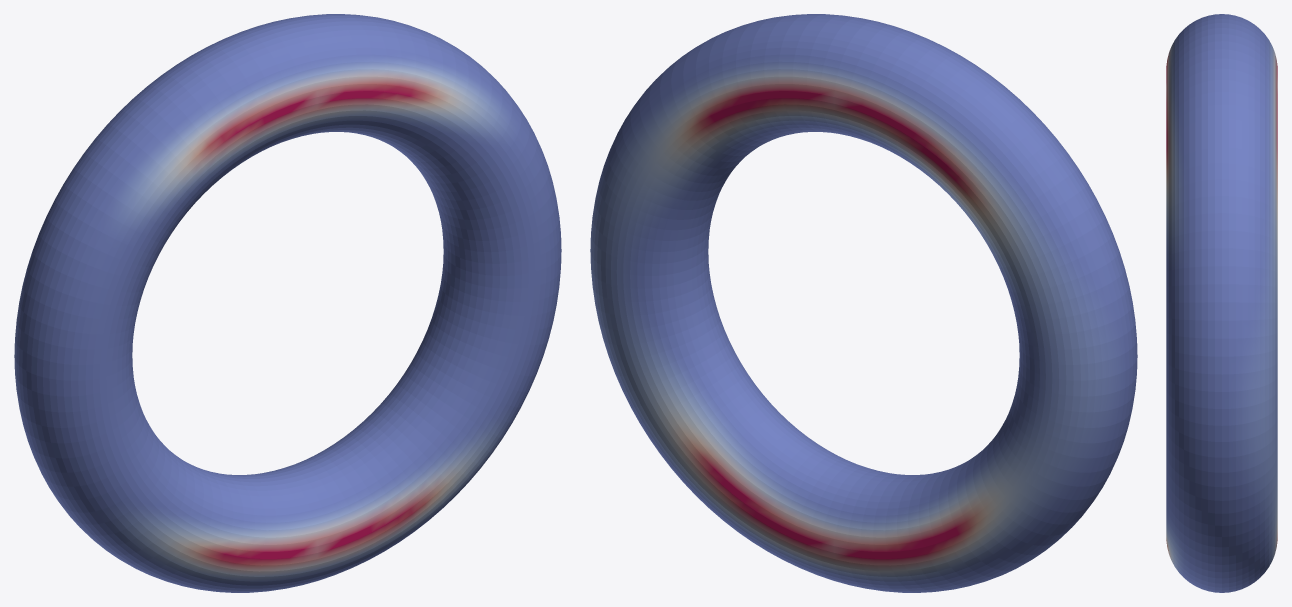
The picture shows the model from 3 angles, left to right: view 1: azimuth 30°, elevation 25°; view 2: azimuth 150°, elevation 25°; view 3: azimuth 270°, elevation 25°; orthographic projection. The views are drawn at different scales.
Visible parts, largest first — view 1: world; view 2: world; view 3: world.
Part boxes in pixels (<box>): world: <box>14,14,561,592</box>; world: <box>590,14,1137,592</box>; world: <box>1166,14,1277,592</box>.
Size of the model in its own units: 17.33 by 17.33 by 3.33.
